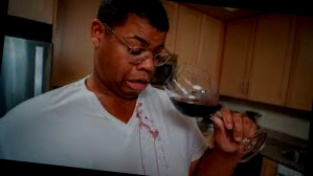wine: (146, 123, 169, 144), (153, 146, 169, 176), (135, 143, 148, 173), (136, 105, 155, 122), (135, 120, 146, 140)
